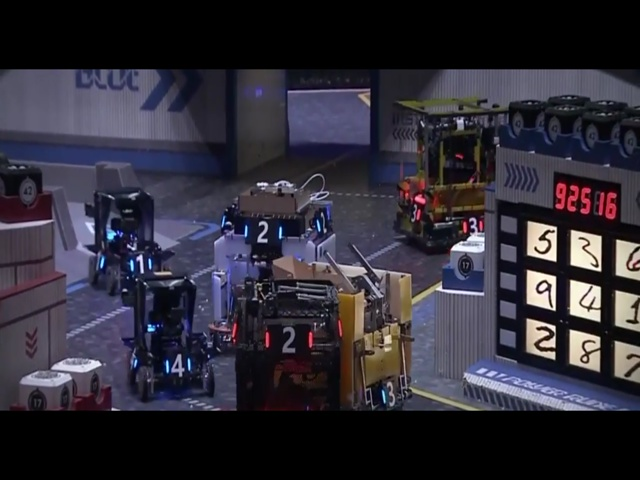plate: (263, 323, 316, 359), (243, 216, 285, 248), (162, 350, 194, 382), (378, 376, 400, 409), (127, 251, 154, 276), (459, 215, 485, 236), (313, 208, 331, 238), (127, 345, 142, 377), (408, 198, 423, 226), (91, 247, 106, 274)
